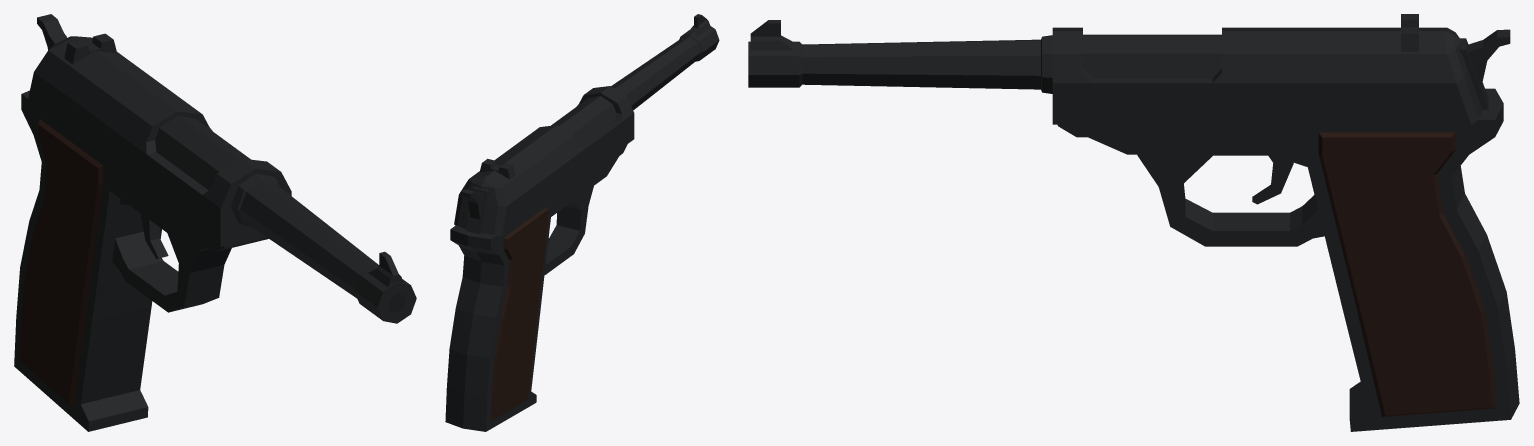
Rendered from Pistol.fbx.
3 renders of one model, left to right at view 1: azimuth 30°, elevation 25°; view 2: azimuth 150°, elevation 25°; view 3: azimuth 270°, elevation 25°, orthographic. The views are drawn at different scales.
Parts seen in each view (by area): view 1: Pistol; view 2: Pistol; view 3: Pistol.
Boxes of the visible parts, x1,y1,x2,y2 form: Pistol: (14, 14, 416, 431); Pistol: (445, 14, 719, 431); Pistol: (748, 14, 1519, 431).
Size of the model in its own units: 0.0436 by 0.2149 by 0.3807.
